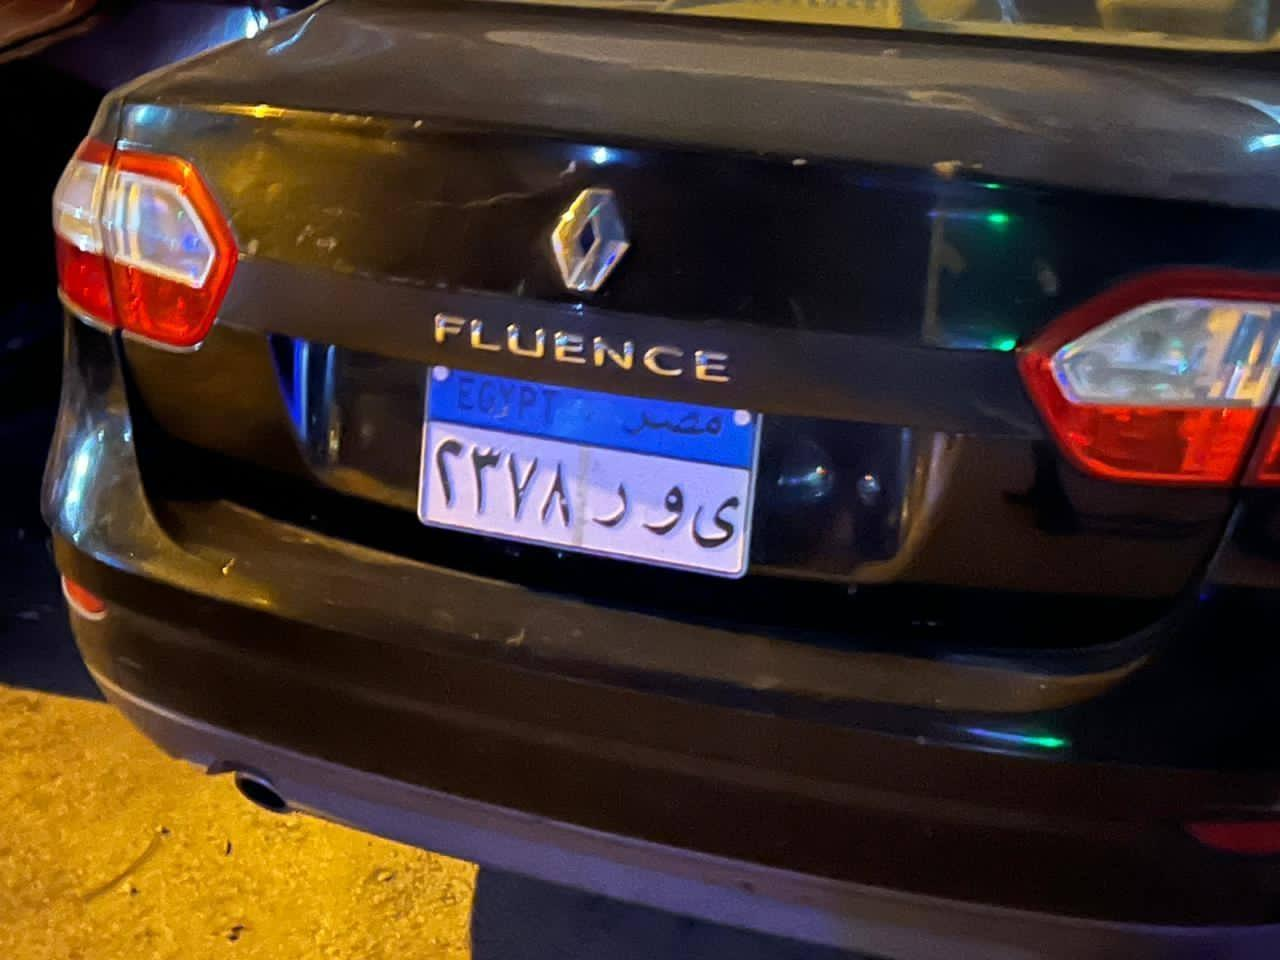2: (431, 439, 460, 505)
3: (468, 426, 503, 518)
7: (502, 450, 540, 528)
8: (540, 431, 580, 529)
License Plate: (407, 364, 757, 594)
R: (594, 480, 634, 538)
Wow: (646, 484, 688, 544)
Yeeh: (688, 496, 742, 545)
